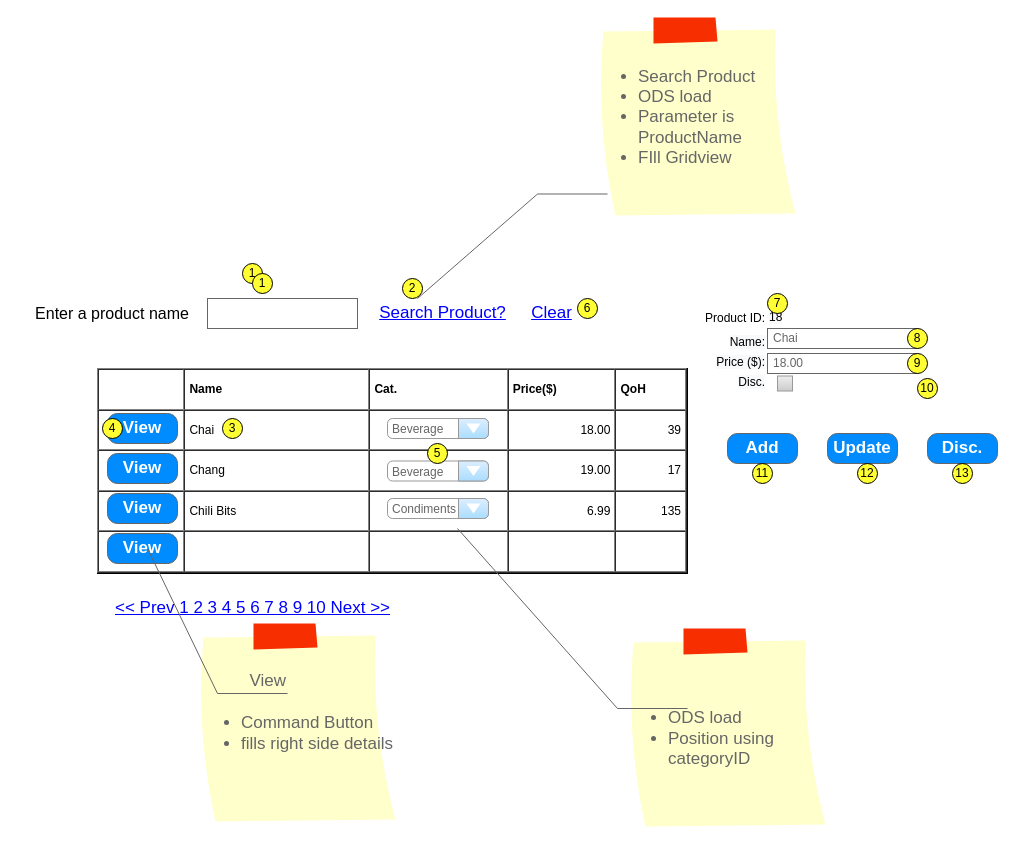
This 1015x846 diagram has some shape labels left out. Here are the shapes that lost their labels. From the top down, the centre of each, then its label:
At (282,313): "ch".
At (784,383): "Check if discontinued".
At (572,618): "Cat ddl".
